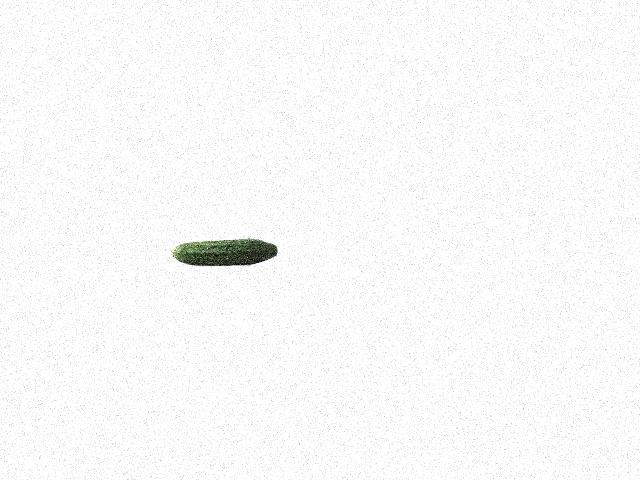cucumber: (172, 239, 278, 265)
